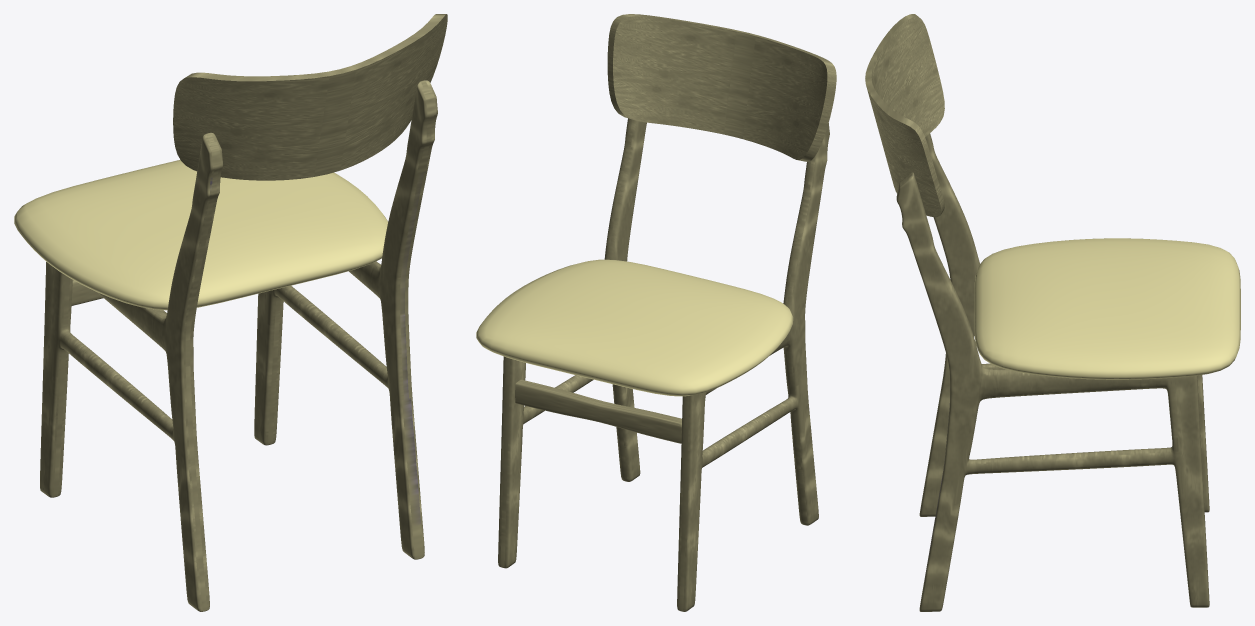
The picture shows the model from 3 angles, left to right: view 1: azimuth 30°, elevation 25°; view 2: azimuth 150°, elevation 25°; view 3: azimuth 270°, elevation 25°; orthographic projection. The views are drawn at different scales.
Parts seen in each view (by area): view 1: Cube.004_Cube.001; view 2: Cube.004_Cube.001; view 3: Cube.004_Cube.001.
Boxes of the visible parts, <box> form: Cube.004_Cube.001: <box>14,14,447,611</box>; Cube.004_Cube.001: <box>476,14,836,611</box>; Cube.004_Cube.001: <box>865,14,1240,611</box>.
Bounding box in the file's own units: 4.45 × 7.58 × 5.23.
Materials: 2 (1 with a texture image).
